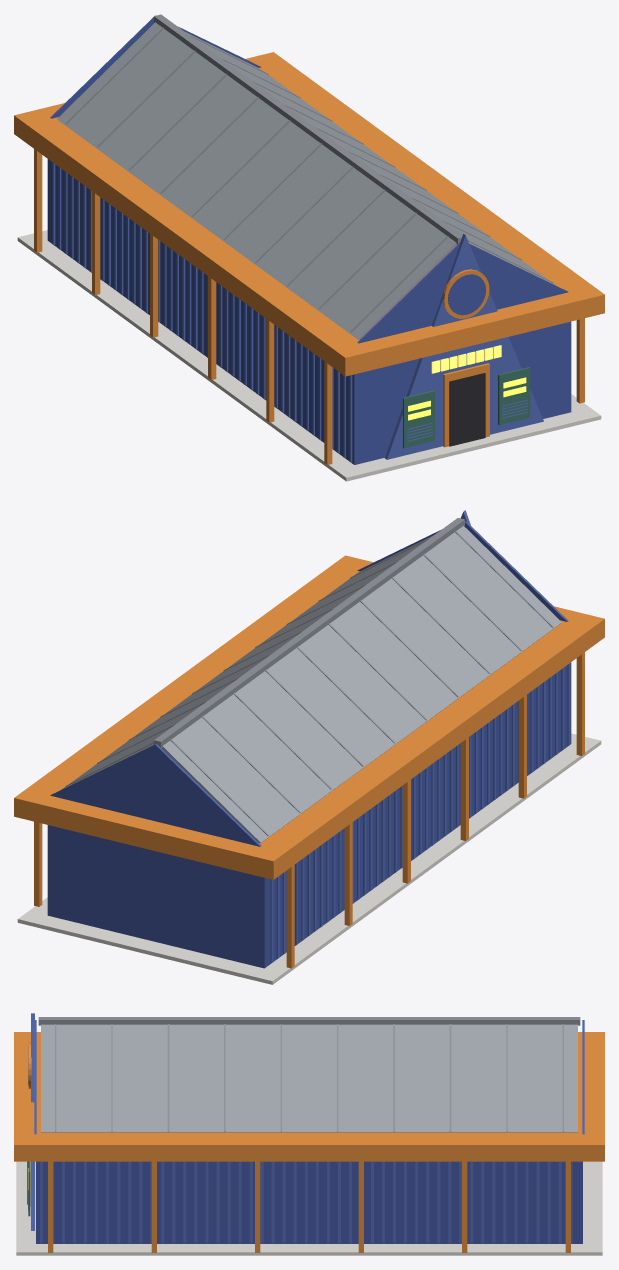
3 renders of one model, top to bottom at view 1: azimuth 30°, elevation 25°; view 2: azimuth 150°, elevation 25°; view 3: azimuth 270°, elevation 25°, orthographic. The views are drawn at different scales.
Parts seen in each view (by area): view 1: base; view 2: base; view 3: base.
Part boxes in pixels (bbox=[...]): base: bbox=[14, 14, 604, 481]; base: bbox=[14, 510, 604, 984]; base: bbox=[14, 1013, 604, 1255].
Bounding box in the file's own units: 10.9 × 8.4 × 24.1.
